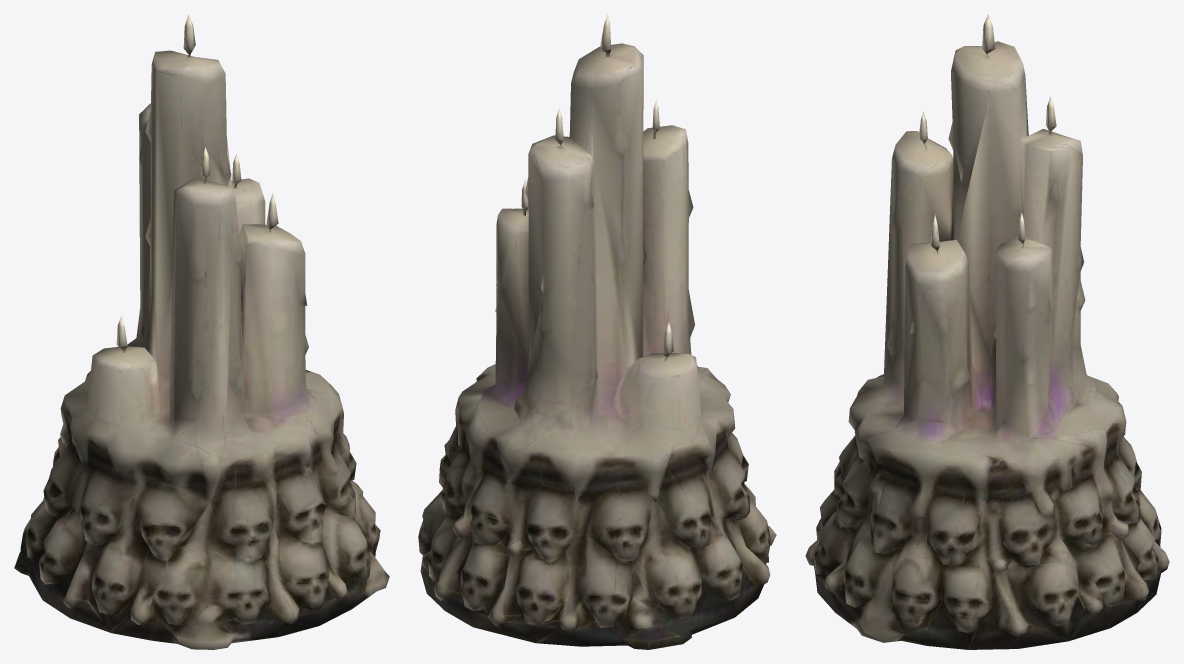
The model's file is alch_bone_candles.glb.
3 renders of one model, left to right at view 1: azimuth 30°, elevation 25°; view 2: azimuth 150°, elevation 25°; view 3: azimuth 270°, elevation 25°, orthographic.
Parts seen in each view (by area): view 1: tripo_node_e8438f64-5ecd-4148-bd6e-1eaa84dbe2b4; view 2: tripo_node_e8438f64-5ecd-4148-bd6e-1eaa84dbe2b4; view 3: tripo_node_e8438f64-5ecd-4148-bd6e-1eaa84dbe2b4.
Boxes of the visible parts, left/top/right/bottom form: tripo_node_e8438f64-5ecd-4148-bd6e-1eaa84dbe2b4: left=14, top=14, right=389, bottom=649; tripo_node_e8438f64-5ecd-4148-bd6e-1eaa84dbe2b4: left=418, top=14, right=776, bottom=649; tripo_node_e8438f64-5ecd-4148-bd6e-1eaa84dbe2b4: left=805, top=14, right=1169, bottom=649.
Size of the model in its own units: 0.5801 by 0.998 by 0.5918.
1 material, 1 textured.
